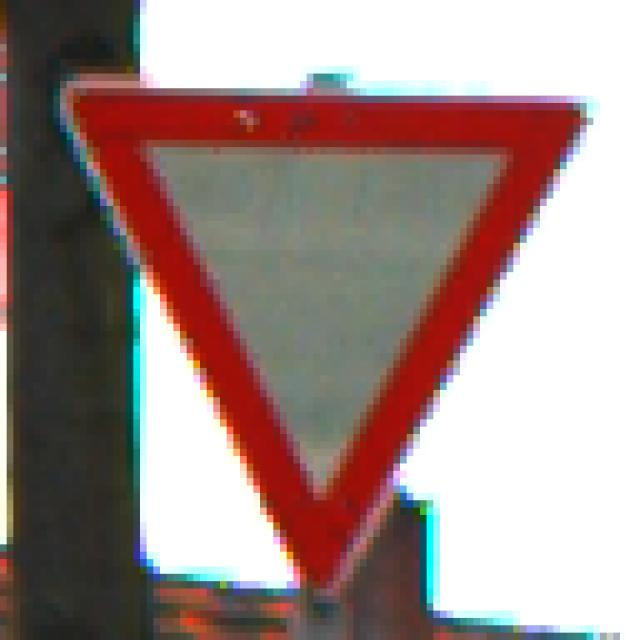Give Way: (54, 60, 588, 582)
